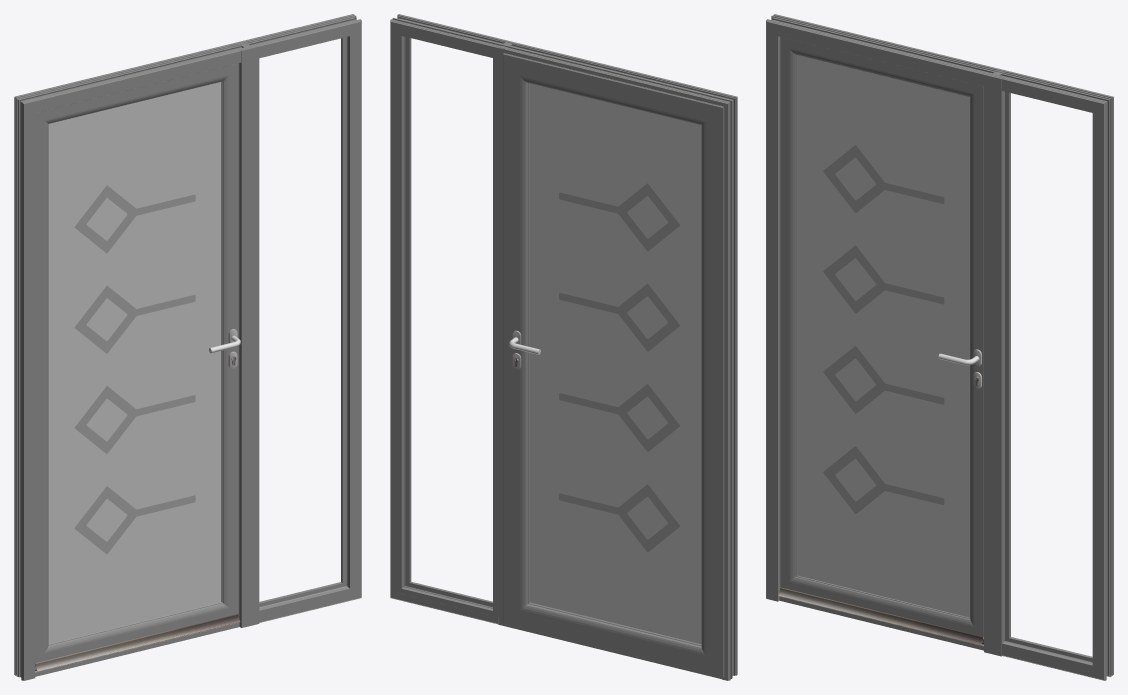
3 renders of one model, left to right at view 1: azimuth 30°, elevation 25°; view 2: azimuth 150°, elevation 25°; view 3: azimuth 330°, elevation 25°, orthographic.
Parts seen in each view (by area): view 1: fosco_20, aroFixo, aroMovel, montanteCentral, transparente_20, bite, borracha, escovas, rodaPe; view 2: fosco_20, aroMovel, aroFixo, bite, transparente_20, montanteCentral, borracha, rodaPe; view 3: fosco_20, aroFixo, aroMovel, montanteCentral, transparente_20, bite, escovas, borracha, rodaPe.
Boxes of the visible parts, bbox=[...] form: fosco_20: bbox=[48, 82, 221, 643]; aroFixo: bbox=[14, 14, 361, 680]; aroMovel: bbox=[35, 63, 238, 663]; montanteCentral: bbox=[238, 42, 259, 627]; transparente_20: bbox=[74, 185, 195, 554]; bite: bbox=[259, 37, 346, 607]; borracha: bbox=[259, 37, 345, 606]; escovas: bbox=[35, 614, 240, 671]; rodaPe: bbox=[35, 622, 239, 676]; fosco_20: bbox=[529, 83, 701, 644]; aroMovel: bbox=[503, 53, 724, 677]; aroFixo: bbox=[390, 14, 737, 680]; bite: bbox=[396, 29, 498, 617]; transparente_20: bbox=[559, 183, 679, 551]; montanteCentral: bbox=[498, 40, 518, 626]; borracha: bbox=[404, 36, 492, 608]; rodaPe: bbox=[505, 624, 721, 679]; fosco_20: bbox=[797, 55, 969, 617]; aroFixo: bbox=[766, 14, 1113, 680]; aroMovel: bbox=[780, 37, 983, 638]; montanteCentral: bbox=[984, 70, 1004, 656]; transparente_20: bbox=[823, 145, 944, 513]; bite: bbox=[1005, 91, 1092, 661]; escovas: bbox=[778, 587, 983, 645]; borracha: bbox=[1006, 92, 1092, 660]; rodaPe: bbox=[779, 596, 983, 650].
Size of the model in its own units: 1320 by 2149 by 185.
10 materials, 4 textured.
